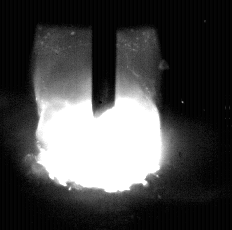arame: (93, 0, 116, 112)
poca: (36, 0, 162, 230)
